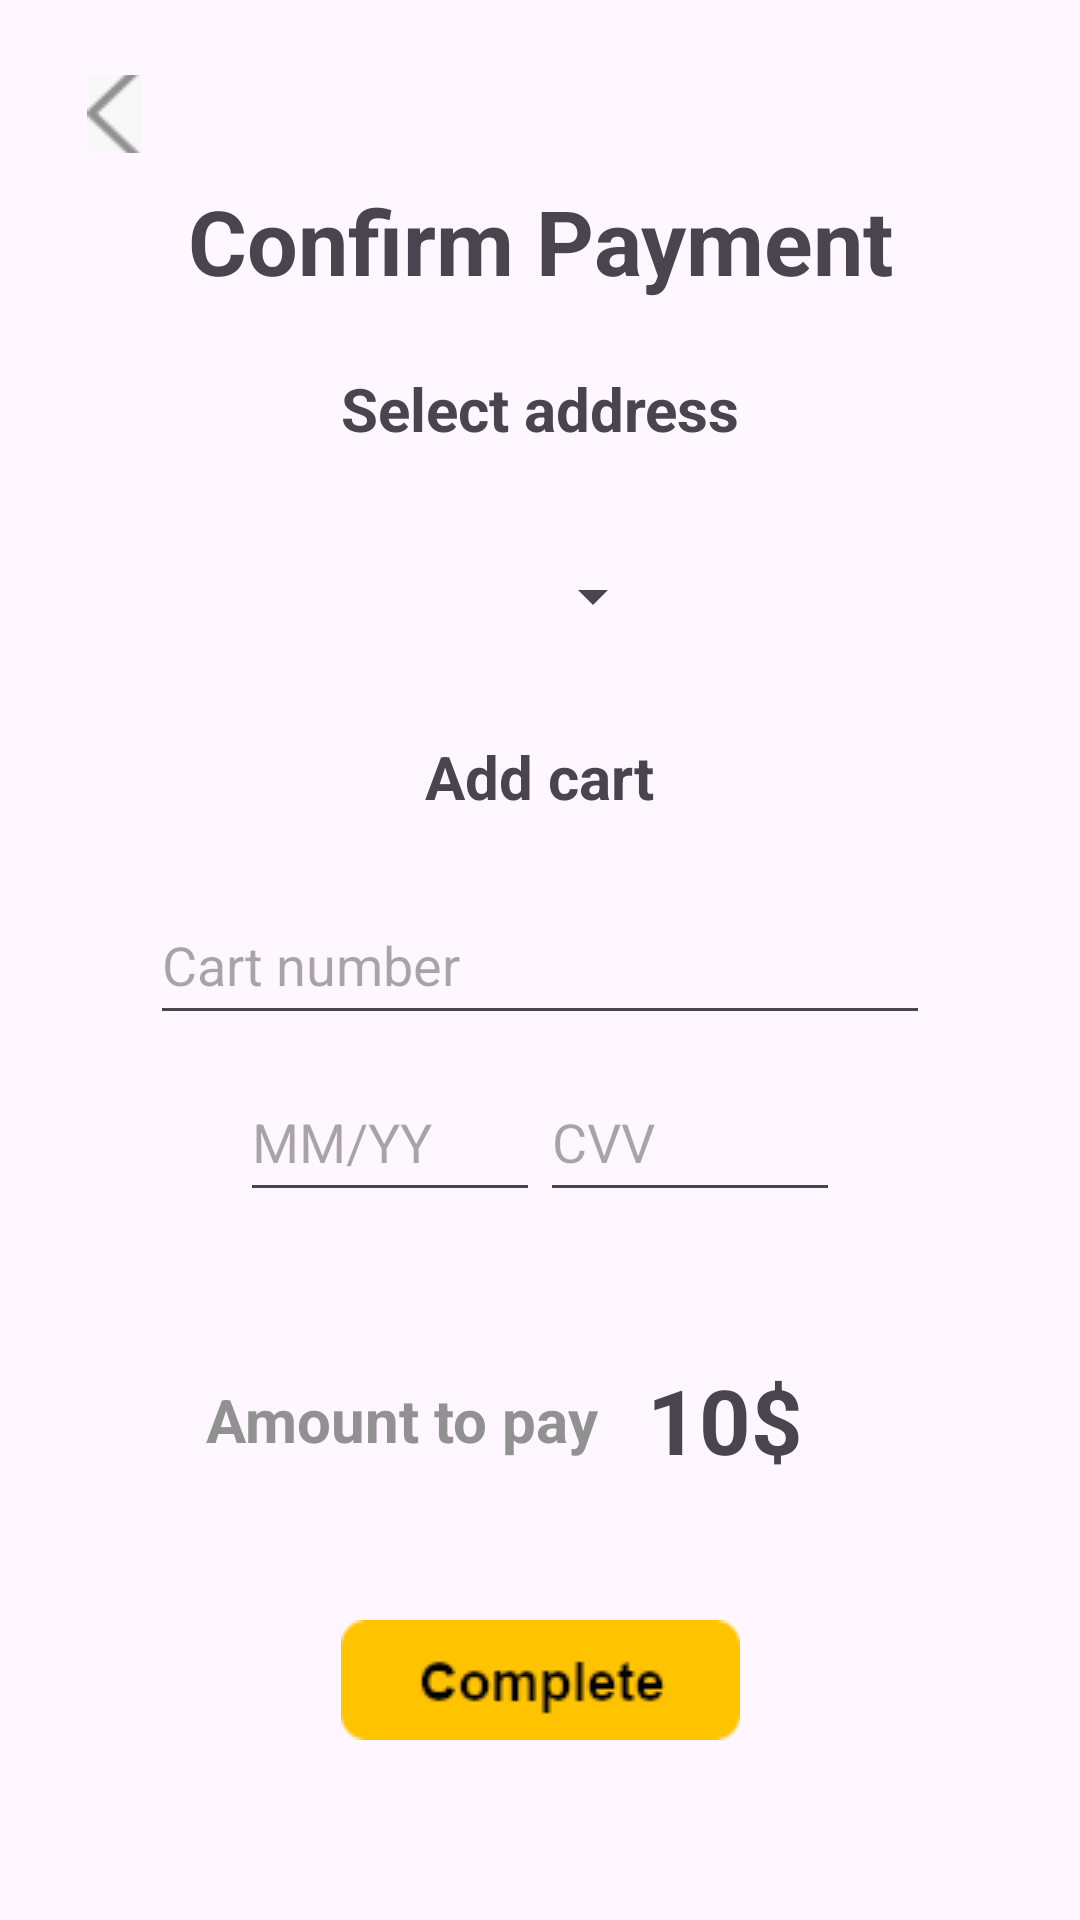

Where icons sit on this 1080 × 1920 app screen, as (x1, y1, x2, y2):
back: (87, 75, 141, 153)
